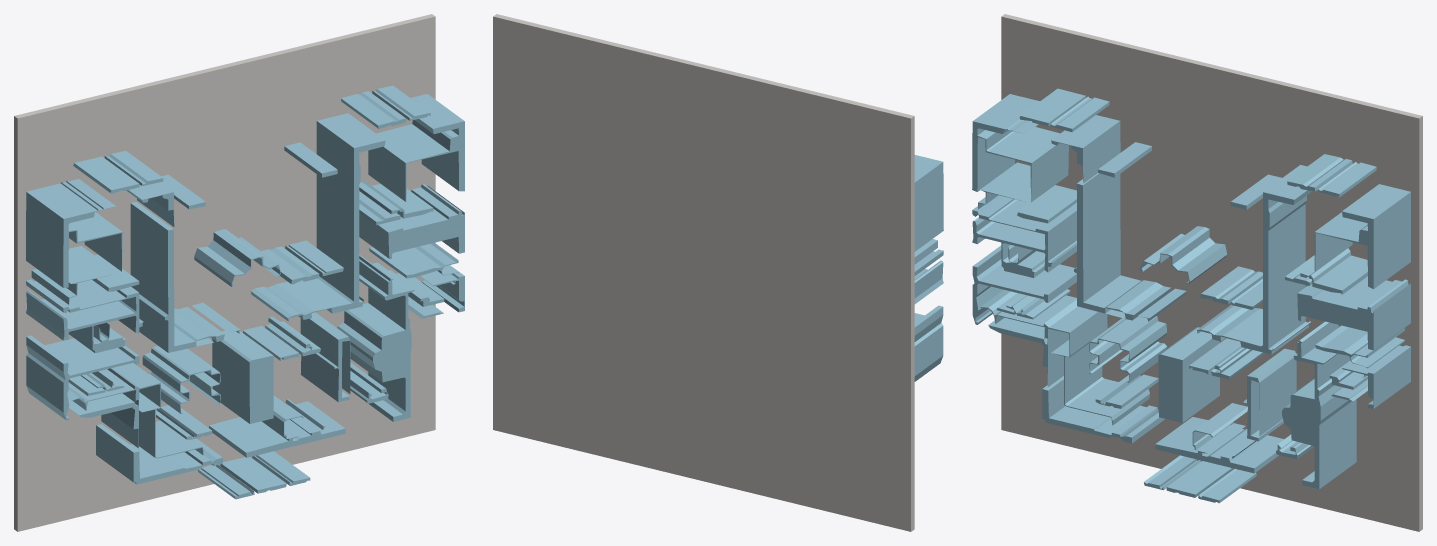
3 views of the same model, side by side, from view 1: azimuth 30°, elevation 25°; view 2: azimuth 150°, elevation 25°; view 3: azimuth 330°, elevation 25° (orthographic).
Visible parts, largest first — view 1: world; view 2: world; view 3: world.
Boxes of the visible parts, x1,y1,x2,y2 form: world: [14, 14, 464, 531]; world: [493, 14, 943, 531]; world: [972, 14, 1422, 531].
Bounding box in the file's own units: 10.23 × 9.67 × 1.73.
